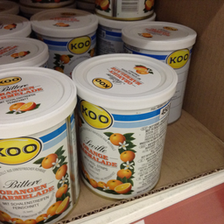jam: (71, 53, 179, 200), (1, 67, 80, 224)
